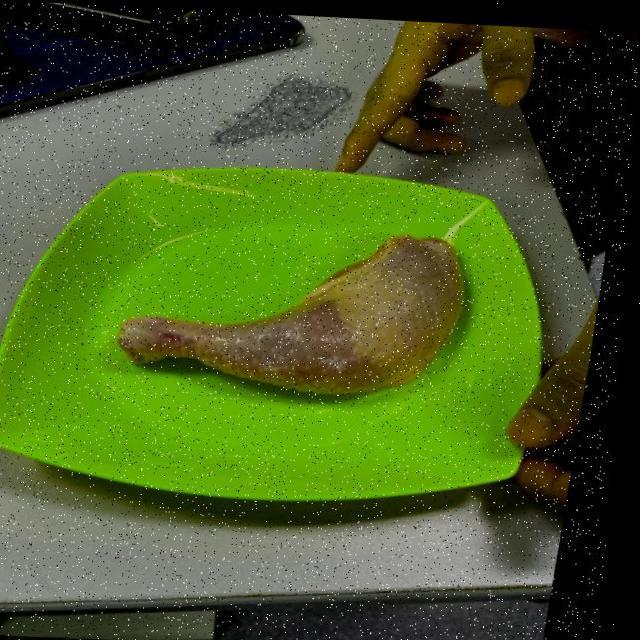quater: (118, 228, 480, 408)
